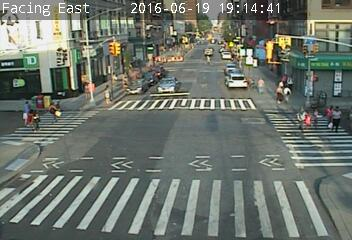neg: (238, 154, 257, 180), (6, 138, 23, 161), (313, 146, 330, 168), (283, 169, 299, 191), (66, 183, 82, 205), (174, 176, 190, 197), (77, 117, 92, 137), (306, 19, 321, 39), (122, 112, 137, 132), (148, 149, 163, 168), (108, 151, 122, 170), (8, 23, 21, 41), (194, 144, 207, 161), (249, 119, 261, 135), (56, 26, 68, 41), (281, 200, 293, 215), (158, 96, 169, 112), (133, 29, 144, 44), (45, 151, 56, 166), (208, 119, 219, 134), (121, 186, 132, 201), (169, 49, 179, 63), (274, 21, 283, 34), (27, 51, 36, 63), (186, 102, 195, 113), (100, 29, 109, 40), (110, 10, 118, 22), (53, 65, 61, 76), (231, 106, 239, 117), (239, 24, 246, 34), (47, 11, 54, 21), (171, 9, 177, 17)
pos: (43, 98, 62, 124), (80, 78, 98, 103), (295, 107, 312, 129), (333, 105, 349, 127), (18, 99, 34, 120), (100, 83, 115, 104), (30, 109, 44, 128), (24, 108, 38, 127), (280, 84, 294, 102), (324, 102, 337, 120), (256, 75, 269, 93), (274, 86, 285, 101), (205, 54, 214, 65)
